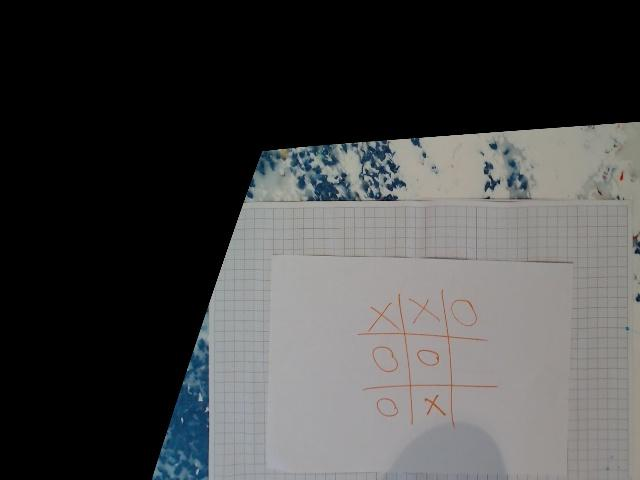O: (450, 292, 480, 328), (370, 346, 400, 372), (414, 341, 442, 368), (374, 392, 398, 420)
X: (408, 292, 441, 325), (367, 302, 397, 330), (423, 392, 447, 417)
grid: (352, 287, 489, 425)
